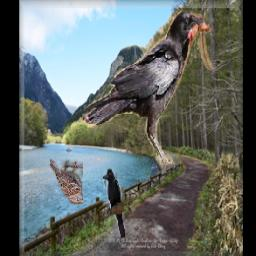Crow: (83, 6, 218, 166), (104, 169, 126, 238)
Sparrow: (50, 159, 83, 204)
